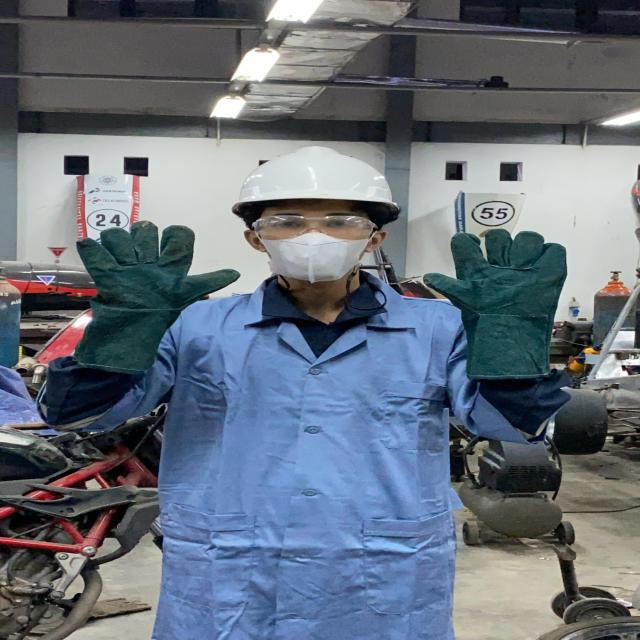glasses: (242, 212, 386, 240)
